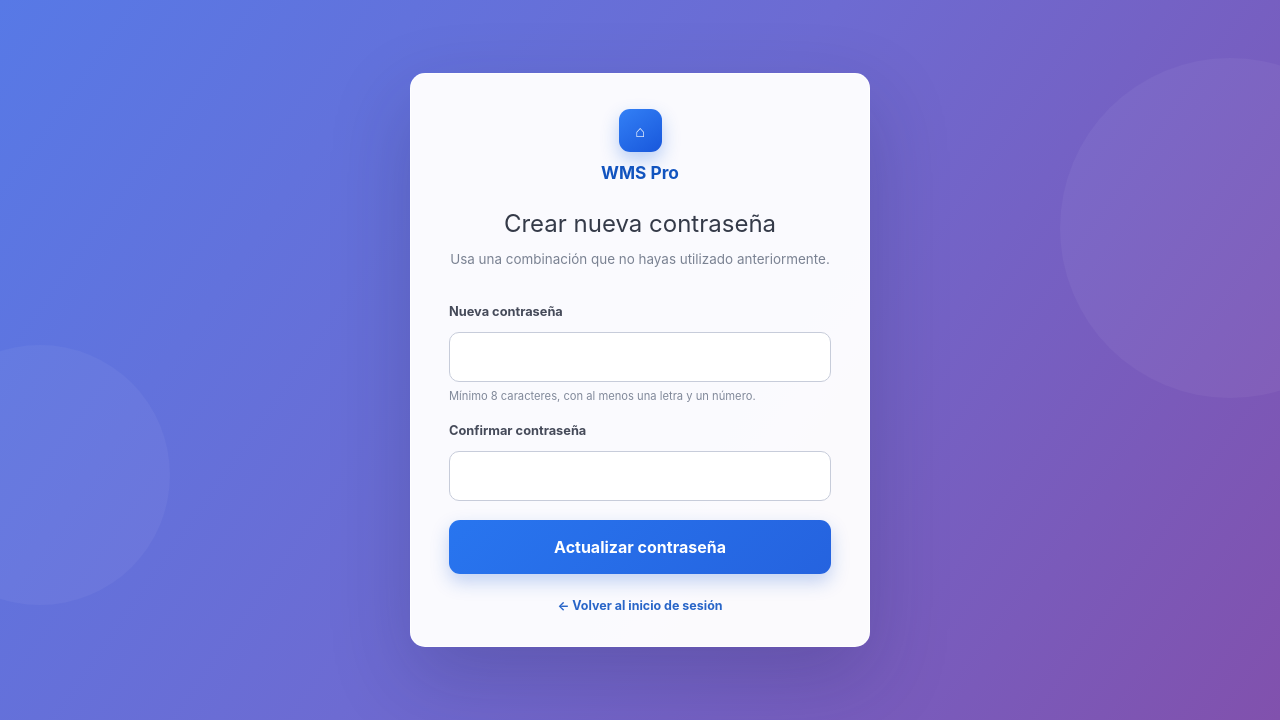
it: ResetPasswordPage › updates the password and requires a new login
Step 1. Type "NuevaClave123" into the password field labelled "Nueva contraseña" → x=640, y=357, box [449, 332, 831, 382]
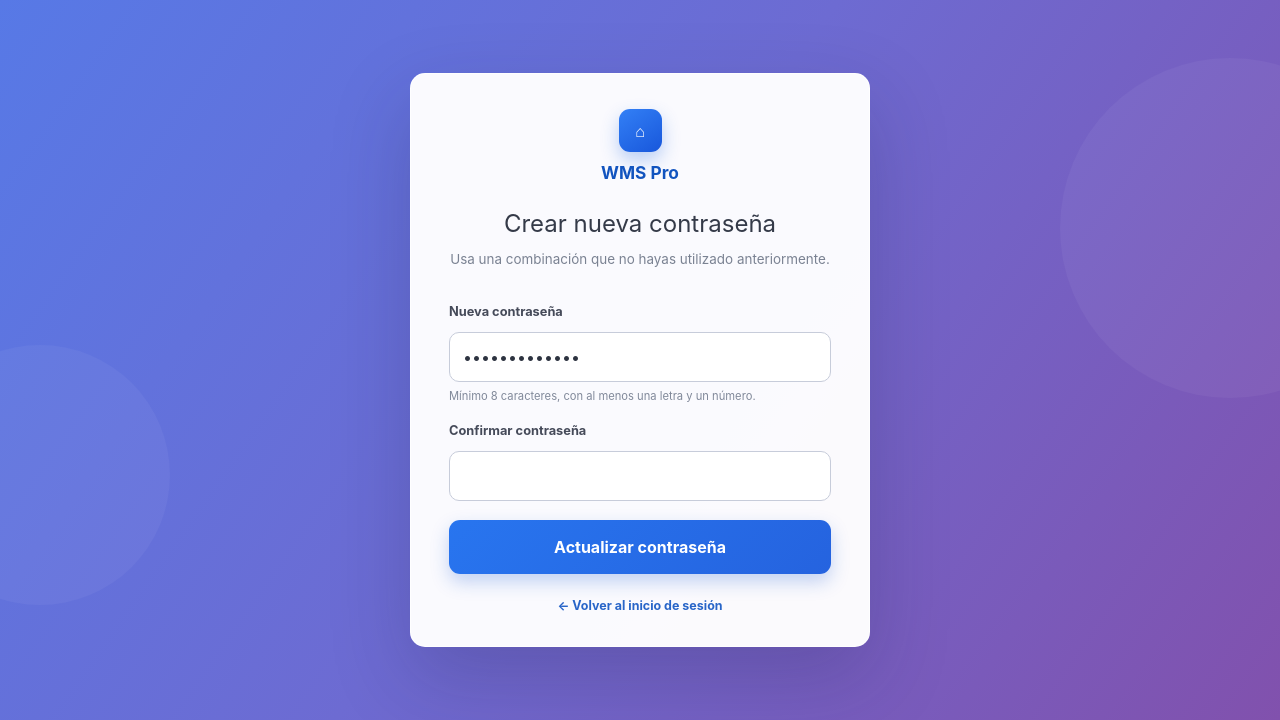
Step 2. Type "NuevaClave123" into the password field labelled "Confirmar contraseña" → x=640, y=476, box [449, 451, 831, 501]
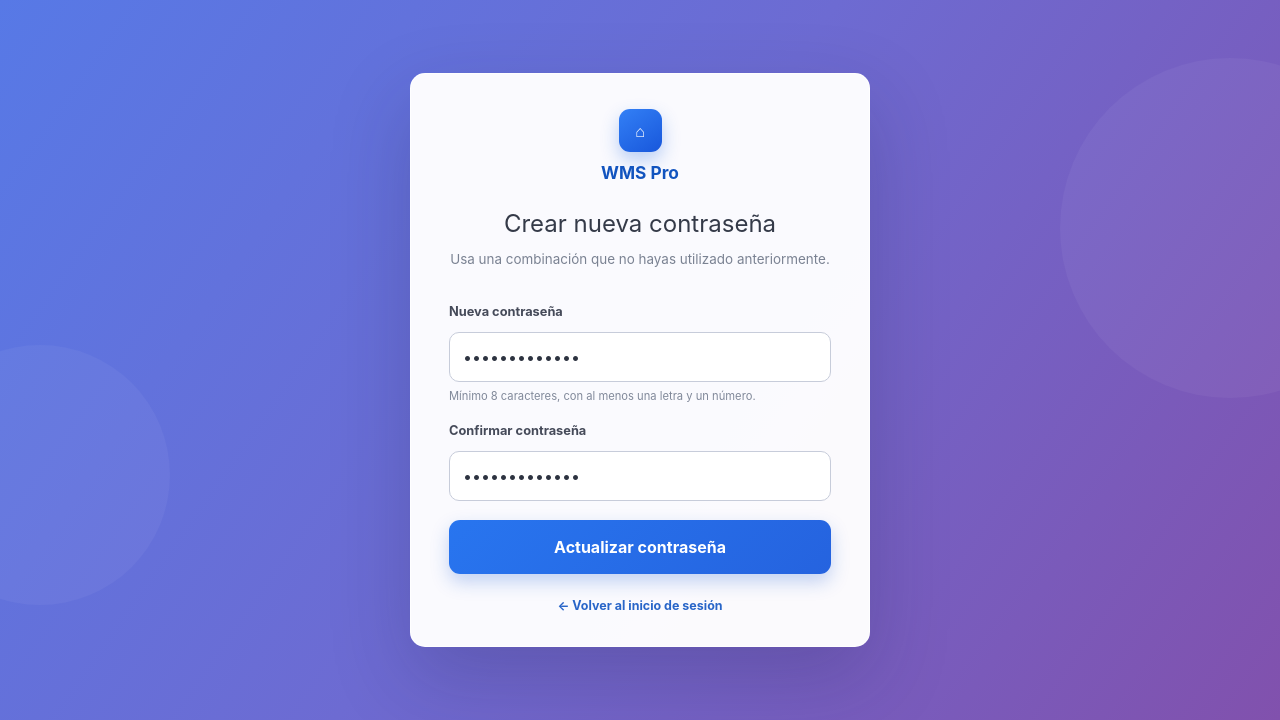
Step 3. Click the button "Actualizar contraseña" → x=640, y=547, box [449, 520, 831, 574]
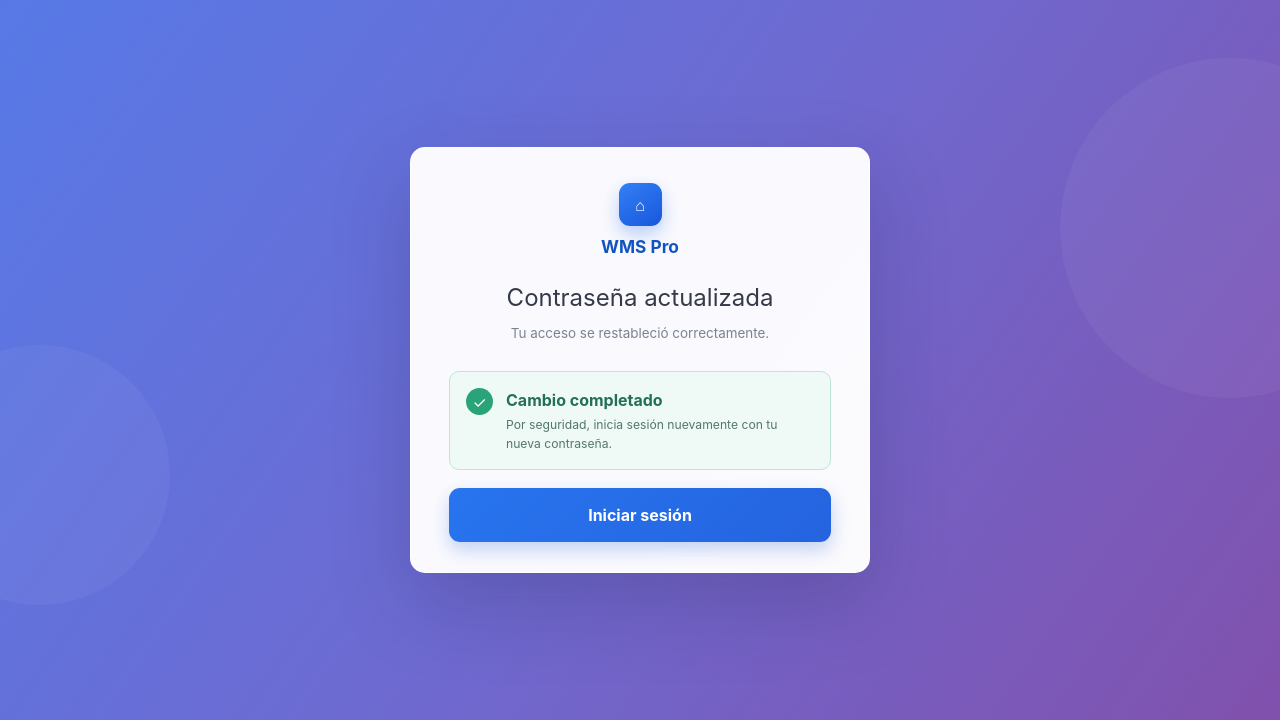
Result: the message shows "Cambio completado" at [506, 390, 663, 410]
